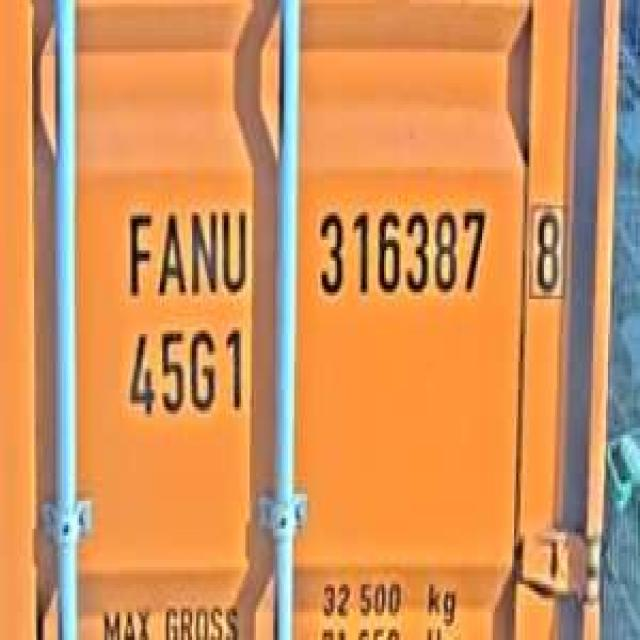dv: (522, 191, 570, 303)
owner: (117, 191, 252, 303)
serial: (309, 191, 491, 310)
size: (117, 313, 250, 424)
